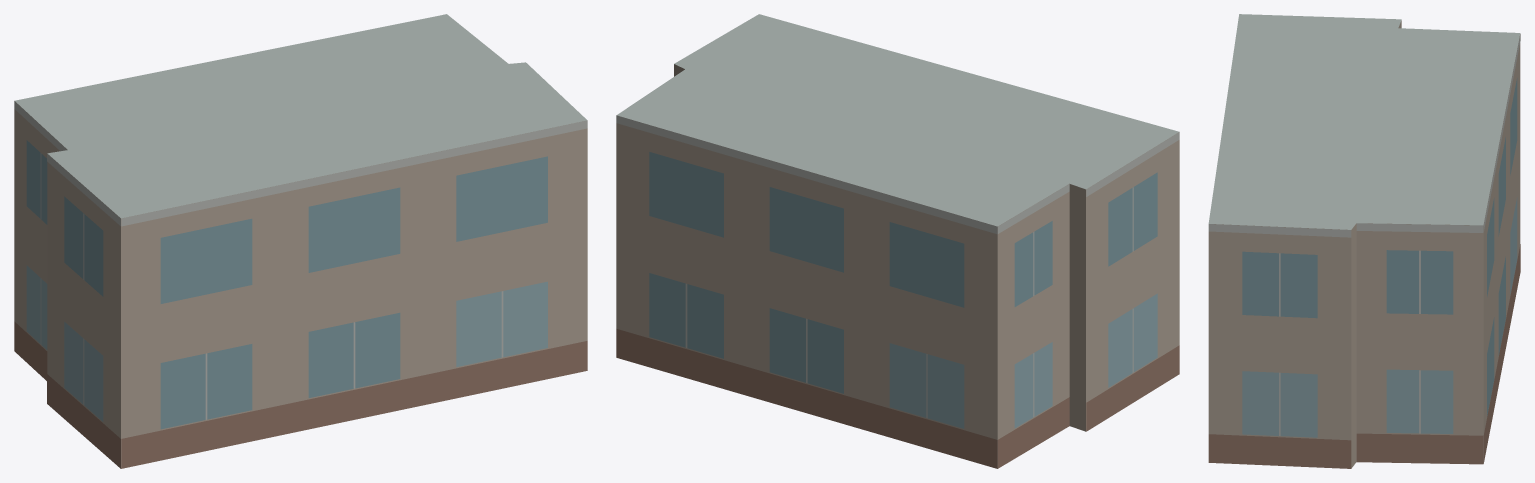
Rendered from survey-upis-32931134.glb.
3 renders of one model, left to right at view 1: azimuth 30°, elevation 25°; view 2: azimuth 150°, elevation 25°; view 3: azimuth 270°, elevation 25°, orthographic. The views are drawn at different scales.
Parts seen in each view (by area): view 1: survey-upis-32931134.tmp; view 2: survey-upis-32931134.tmp; view 3: survey-upis-32931134.tmp.
Part boxes in pixels (<box>): survey-upis-32931134.tmp: <box>14,14,587,468</box>; survey-upis-32931134.tmp: <box>616,14,1179,468</box>; survey-upis-32931134.tmp: <box>1208,14,1520,468</box>.
Bounding box in the file's own units: 14.66 × 7.56 × 8.95.
